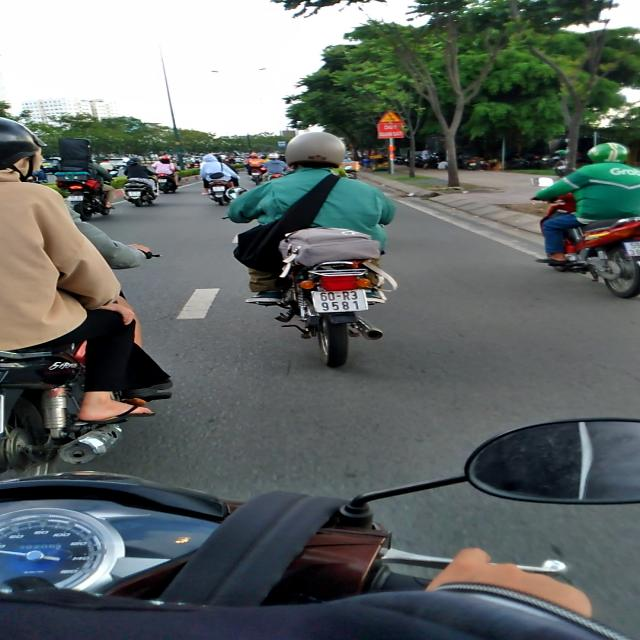R.434: (277, 141, 286, 148)
W.245a: (374, 110, 401, 123)
